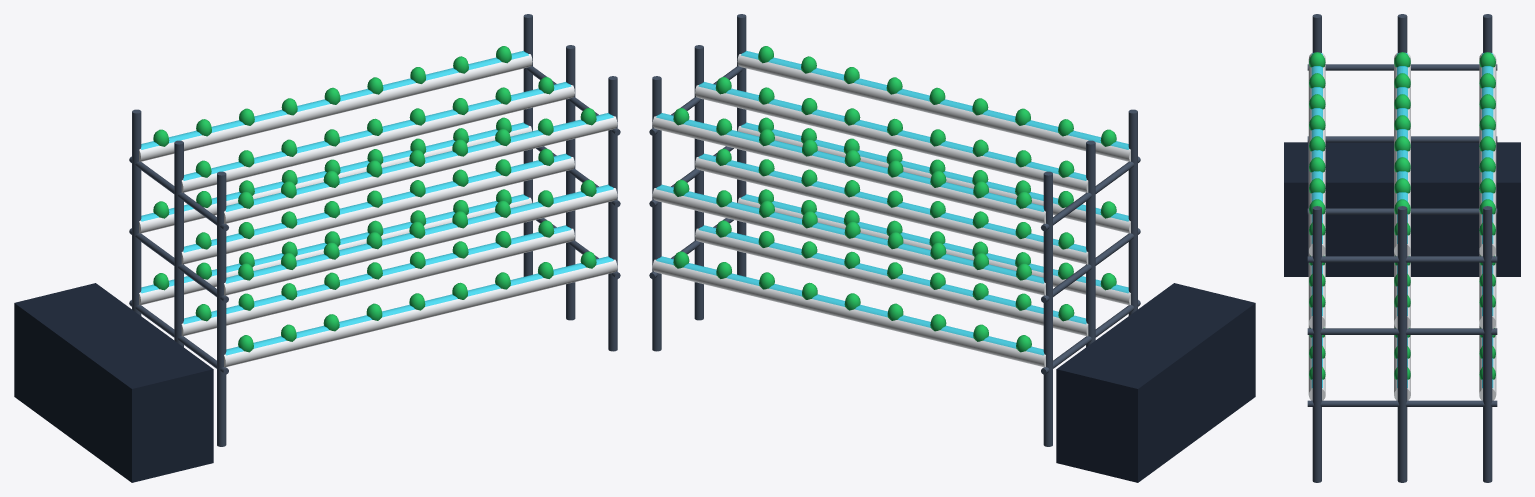
File: hidroponia.glb
3 renders of one model, left to right at view 1: azimuth 30°, elevation 25°; view 2: azimuth 150°, elevation 25°; view 3: azimuth 270°, elevation 25°, orthographic.
Size of the model in its own units: 3.08 by 1.59 by 1.25.
